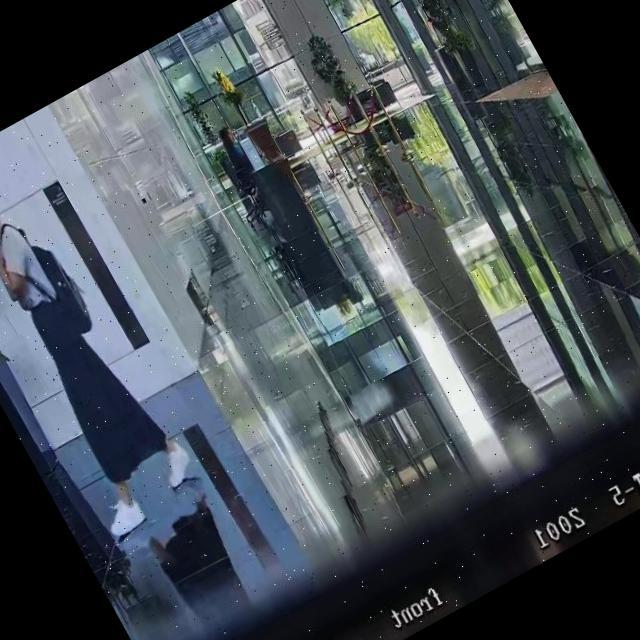person: (0, 146, 199, 541), (213, 124, 260, 190)
